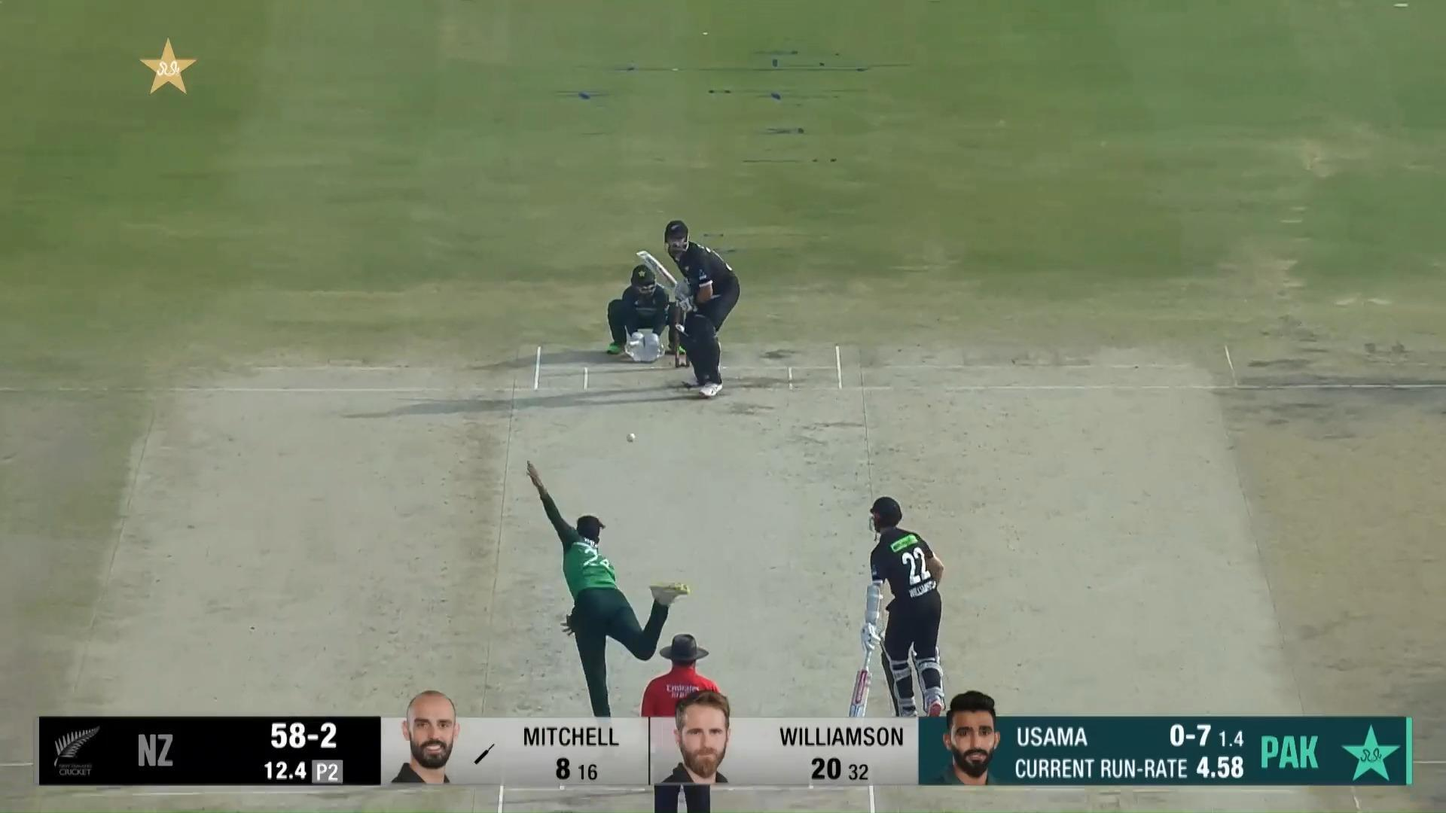BM 1: (633, 218, 740, 400)
BO: (525, 458, 692, 756)
